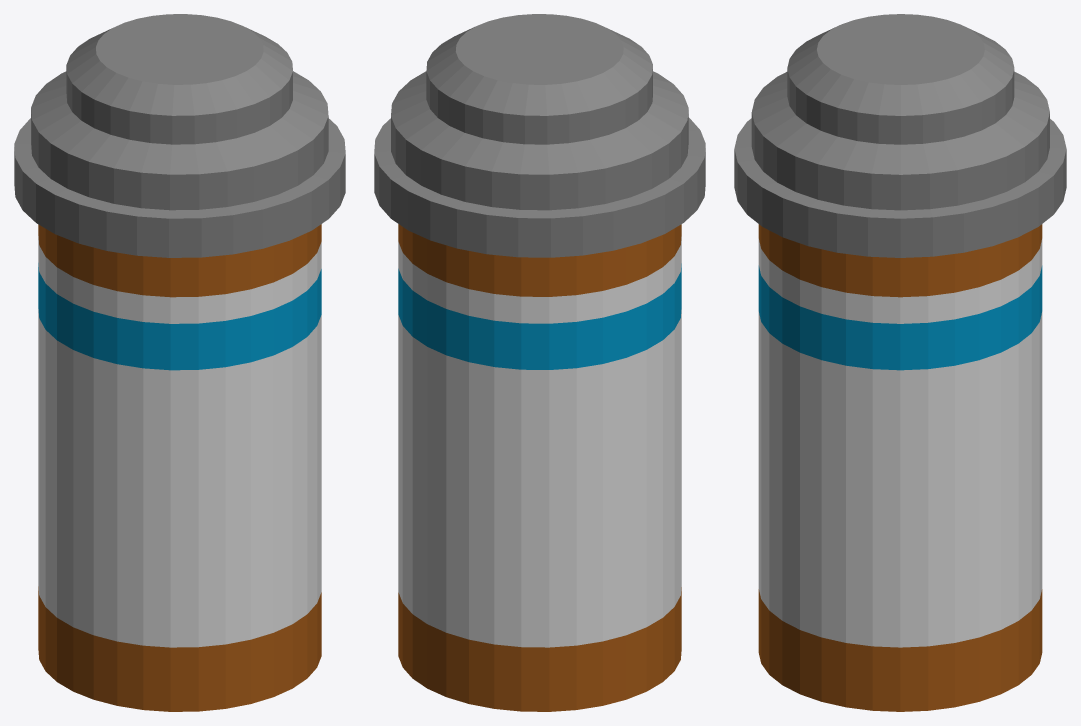
The model's file is Pill.fbx.
The picture shows the model from 3 angles, left to right: view 1: azimuth 30°, elevation 25°; view 2: azimuth 150°, elevation 25°; view 3: azimuth 270°, elevation 25°; orthographic projection.
Visible parts, largest first — view 1: Pill; view 2: Pill; view 3: Pill.
Boxes of the visible parts, left/top/right/bottom form: Pill: left=14, top=14, right=345, bottom=711; Pill: left=374, top=14, right=705, bottom=711; Pill: left=734, top=14, right=1066, bottom=711.
Bounding box in the file's own units: 252 × 505 × 252.
